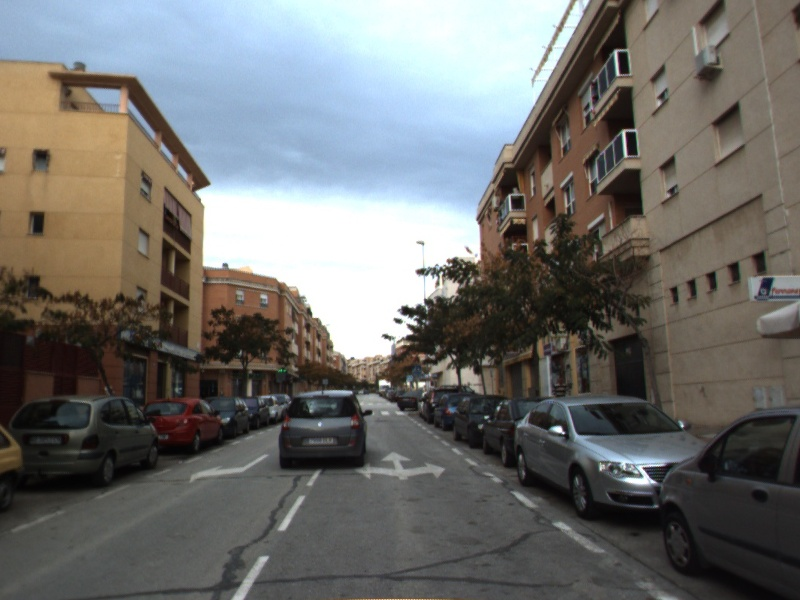STRAIGHT_LEFT_RIGHT: (352, 449, 449, 482)
